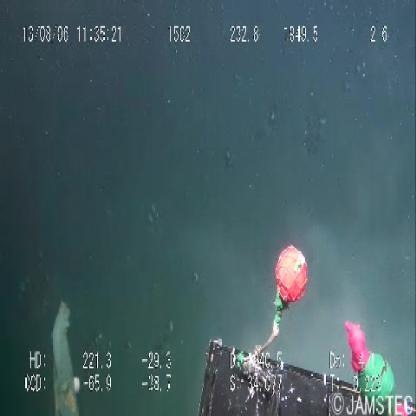Rov: (189, 238, 415, 415)
Rác: (42, 296, 94, 414)
